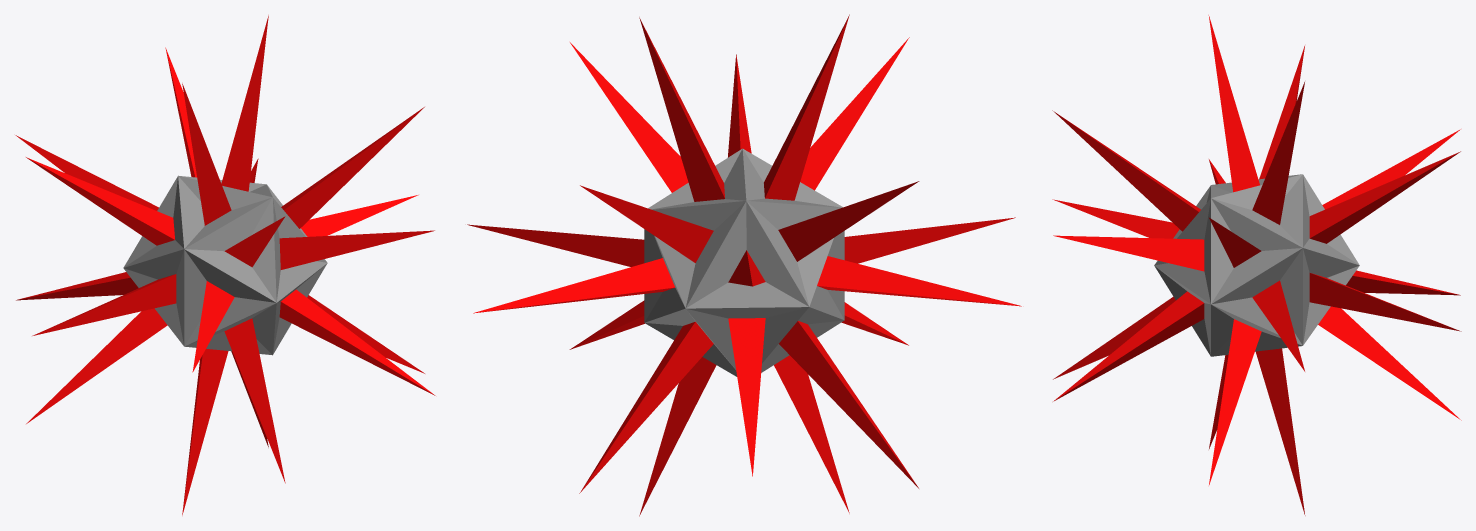
Rendered from Urch.FBX.
The picture shows the model from 3 angles, left to right: view 1: azimuth 30°, elevation 25°; view 2: azimuth 150°, elevation 25°; view 3: azimuth 270°, elevation 25°; orthographic projection. The views are drawn at different scales.
Visible parts, largest first — view 1: GeoSphere001; view 2: GeoSphere001; view 3: GeoSphere001.
Part boxes in pixels (x1=…): GeoSphere001: x1=15, y1=15, x2=435, y2=515; GeoSphere001: x1=467, y1=14, x2=1021, y2=516; GeoSphere001: x1=1052, y1=15, x2=1461, y2=515.
Bounding box in the file's own units: 156 × 148 × 126.
